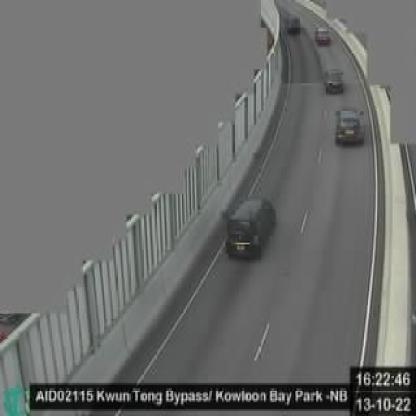Car: (225, 197, 275, 261), (334, 106, 364, 146), (323, 66, 344, 93), (316, 26, 333, 44), (288, 16, 300, 34)
